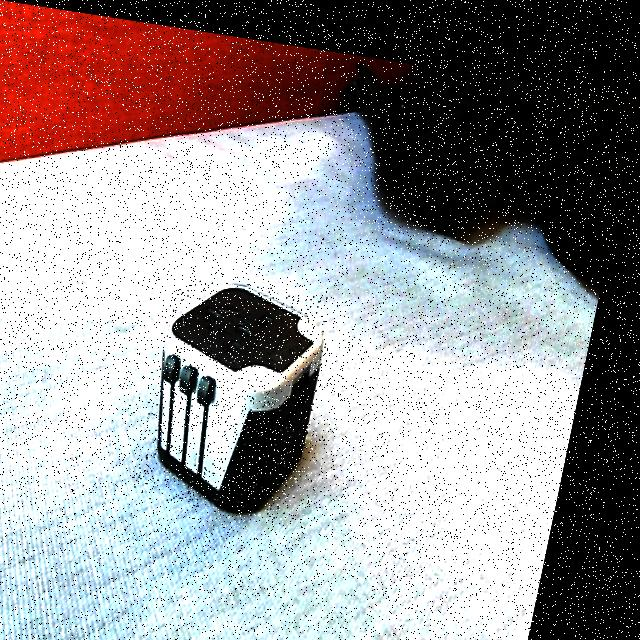adapter: (149, 266, 346, 509)
